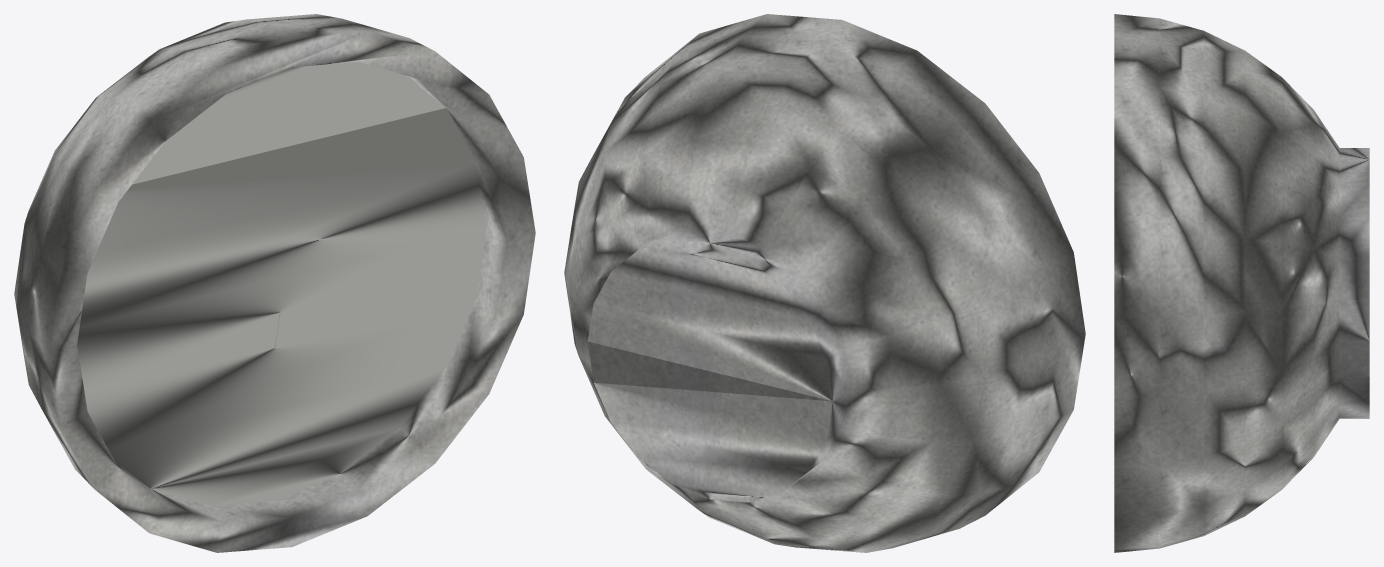
Rendered from model_align.obj.
3 views of the same model, side by side, from view 1: azimuth 30°, elevation 25°; view 2: azimuth 150°, elevation 25°; view 3: azimuth 270°, elevation 25° (orthographic). The views are drawn at different scales.
Size of the model in its own units: 0.1628 by 0.1628 by 0.0766.
3 materials, 3 textured.
